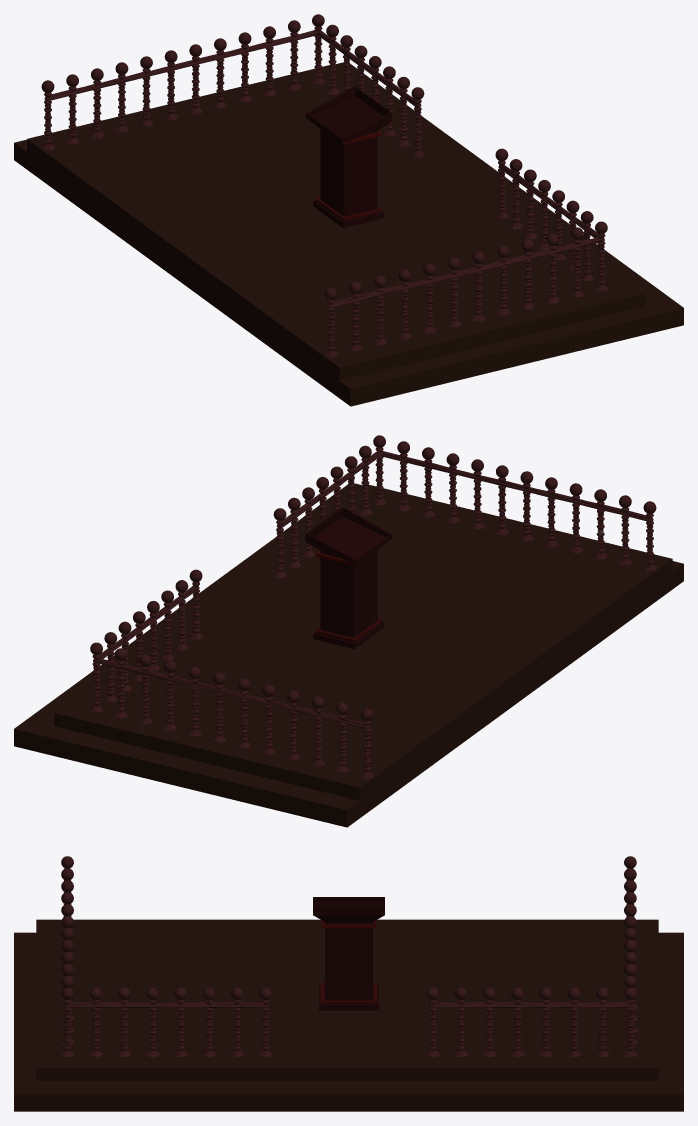
The model's file is platform.fbx.
3 renders of one model, top to bottom at view 1: azimuth 30°, elevation 25°; view 2: azimuth 150°, elevation 25°; view 3: azimuth 270°, elevation 25°, orthographic.
Visible parts, largest first — view 1: platform; view 2: platform; view 3: platform.
Part boxes in pixels (<box>): platform: <box>14,14,683,406</box>; platform: <box>14,435,683,827</box>; platform: <box>14,856,683,1111</box>.
Bounding box in the file's own units: 641 × 252 × 1121.
